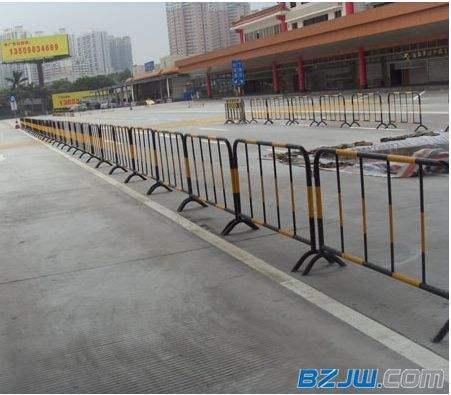sign: (232, 134, 451, 316), (119, 121, 231, 236), (220, 92, 429, 132)
